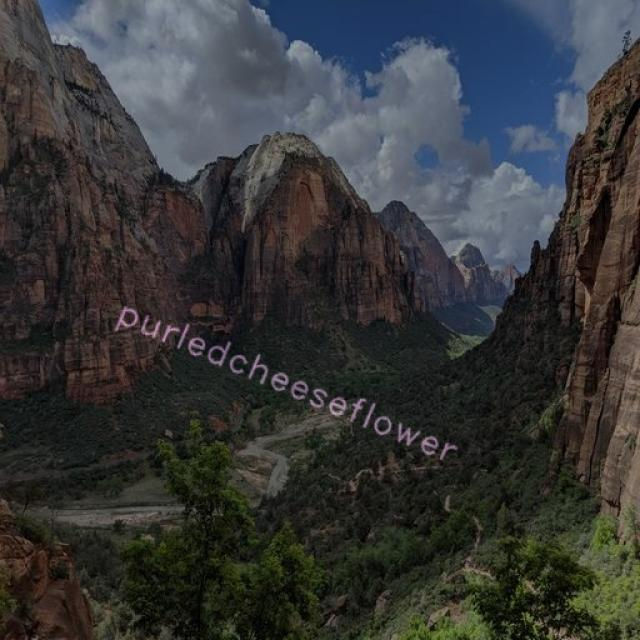watermark: (105, 293, 477, 470)
